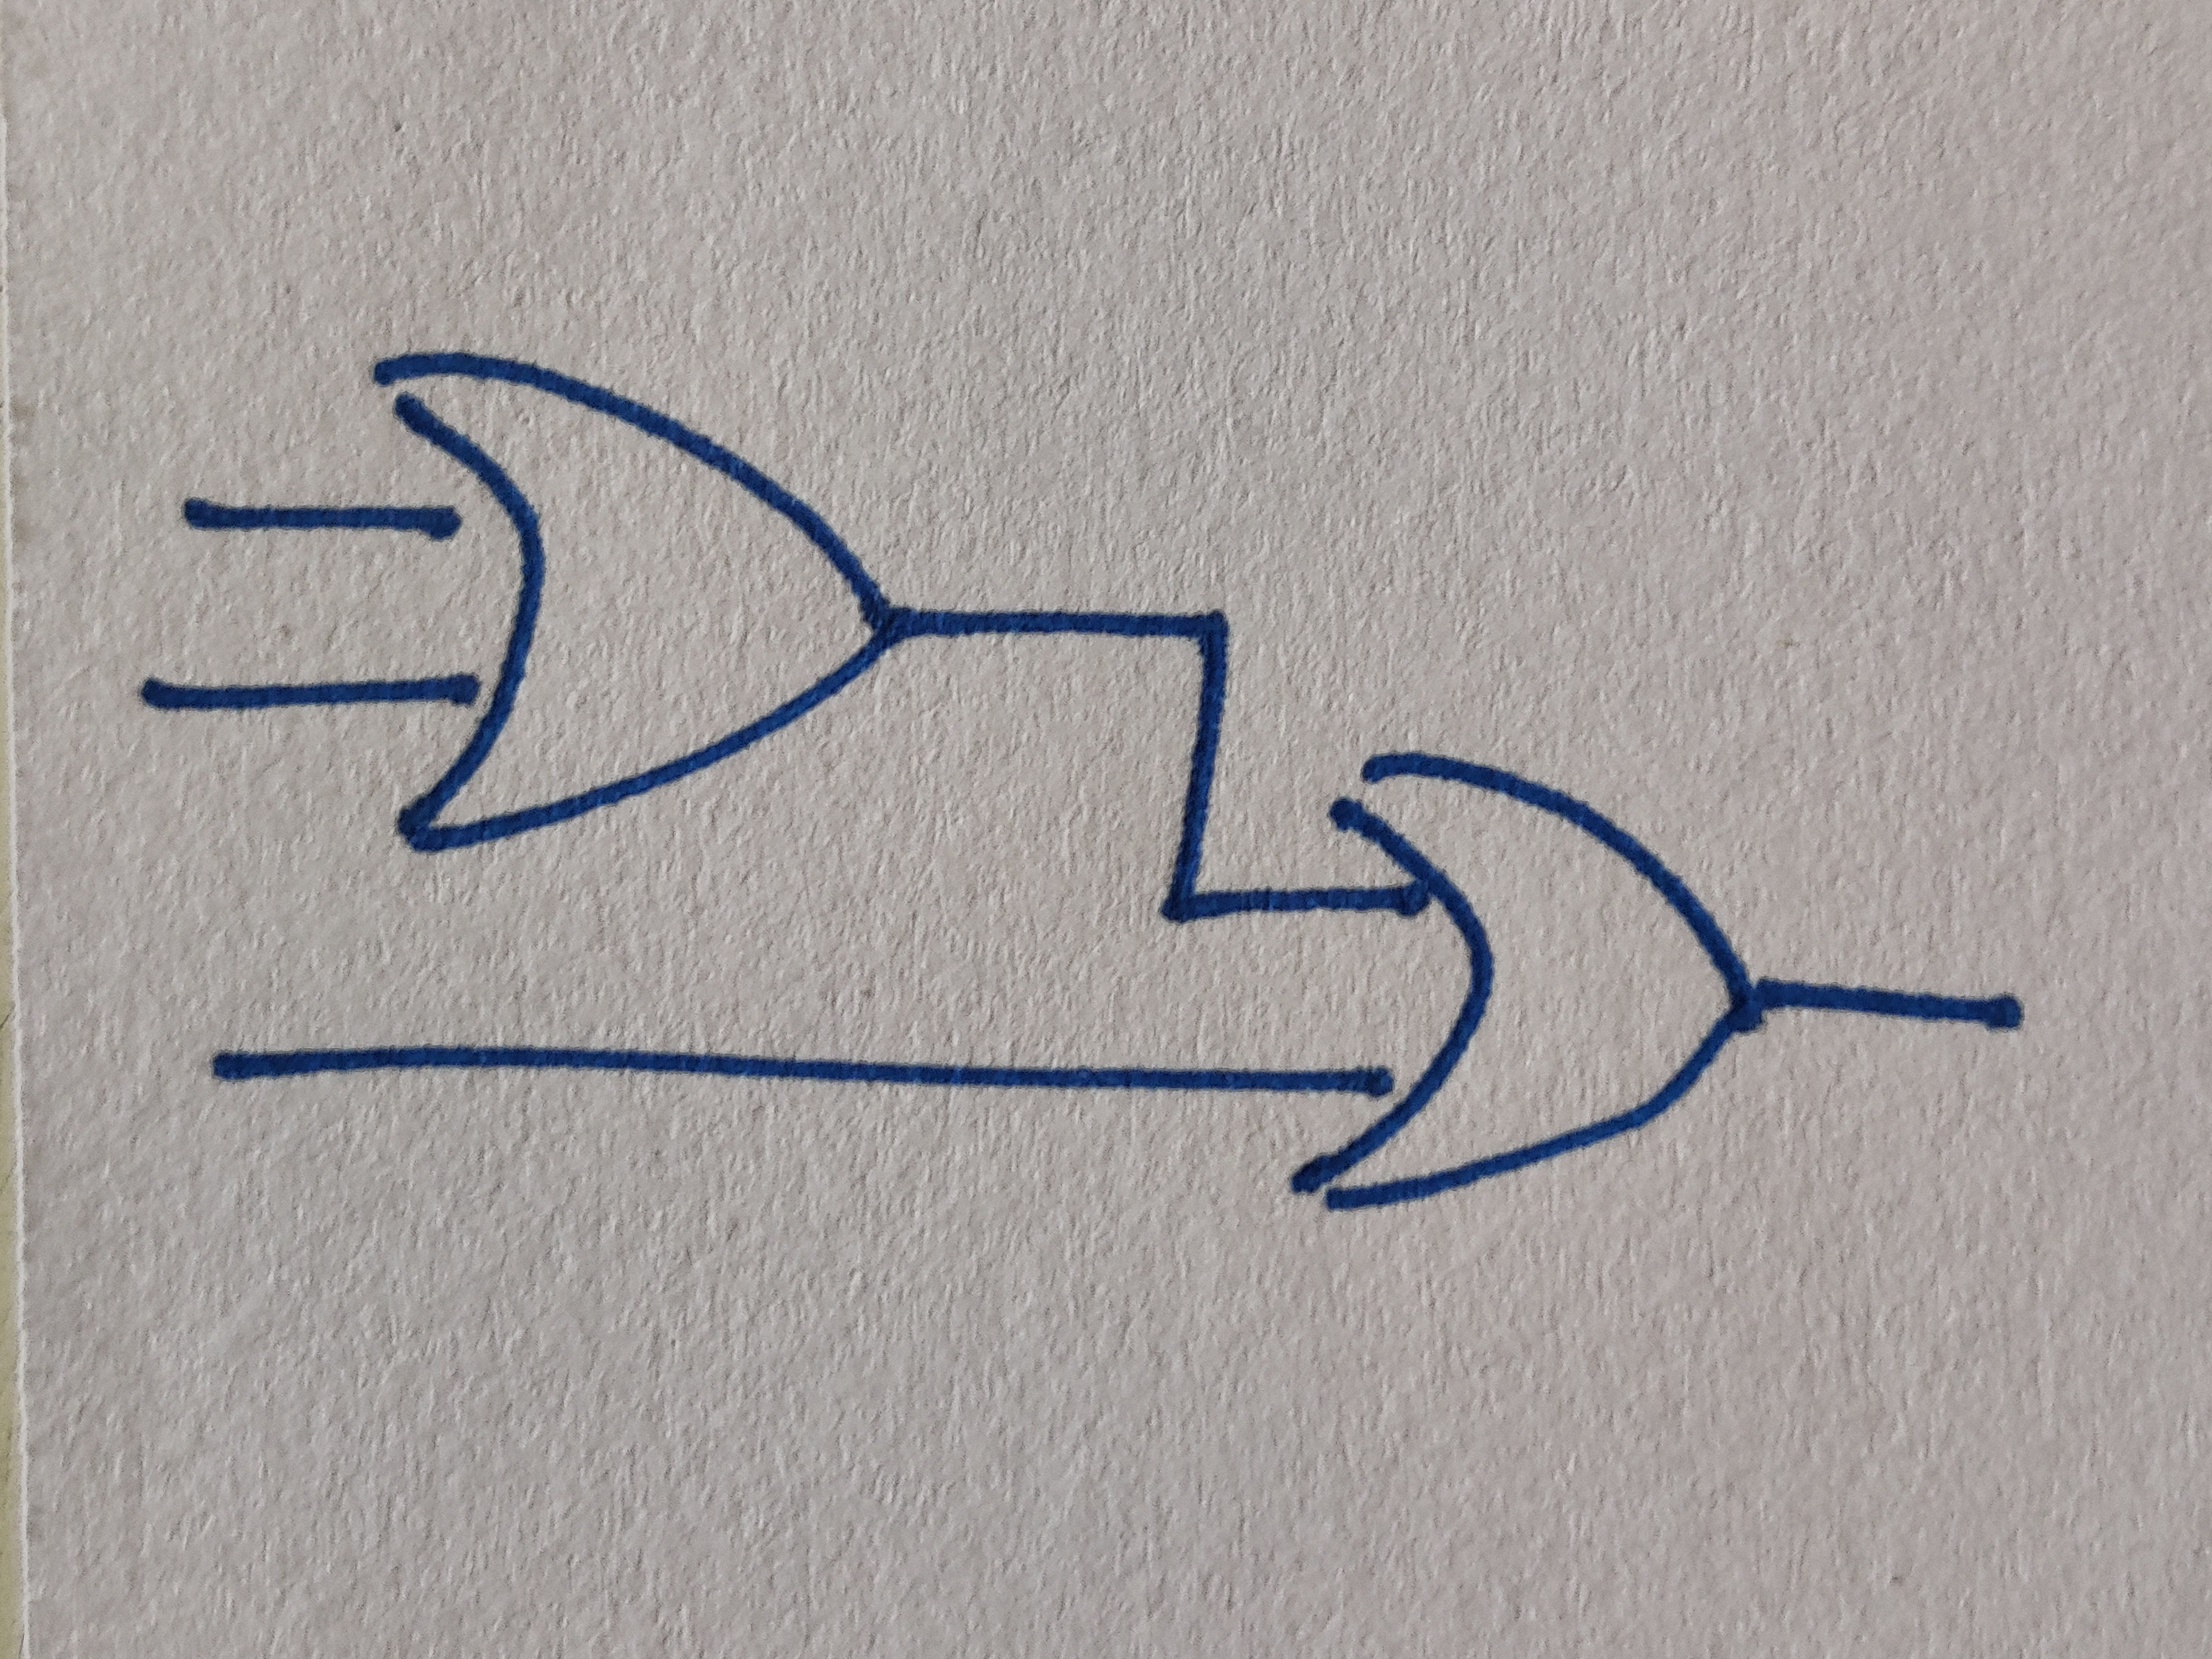or: (373, 352, 897, 854), (1292, 753, 1763, 1213)
